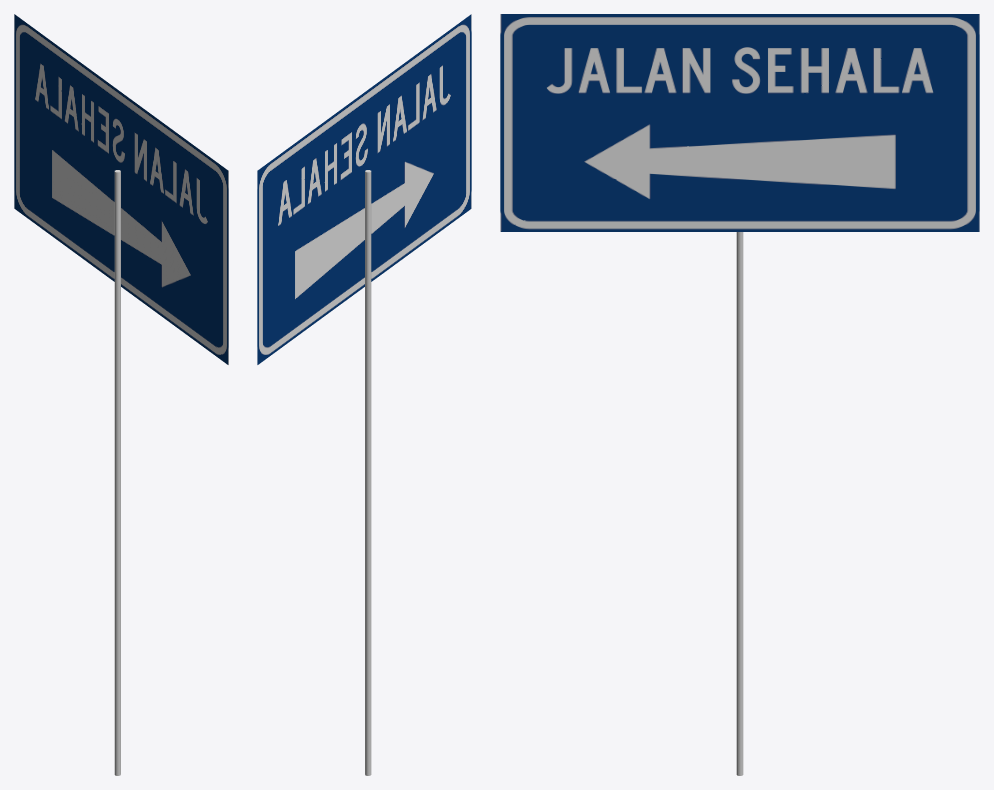
File: jalan sehala.fbx
The picture shows the model from 3 angles, left to right: view 1: azimuth 30°, elevation 25°; view 2: azimuth 150°, elevation 25°; view 3: azimuth 270°, elevation 25°; orthographic projection. The views are drawn at different scales.
Visible parts, largest first — view 1: jalan-sehala, Cylinder; view 2: jalan-sehala, Cylinder; view 3: jalan-sehala, Cylinder.
Boxes of the visible parts, x1,y1,x2,y2 form: jalan-sehala: (14, 14, 228, 364); Cylinder: (114, 170, 120, 775); jalan-sehala: (257, 14, 471, 364); Cylinder: (365, 170, 371, 775); jalan-sehala: (500, 14, 979, 231); Cylinder: (736, 232, 743, 775).
Size of the model in its own units: 3.43 by 350 by 199.
